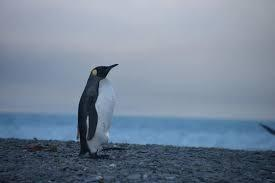king: (71, 55, 132, 162)
